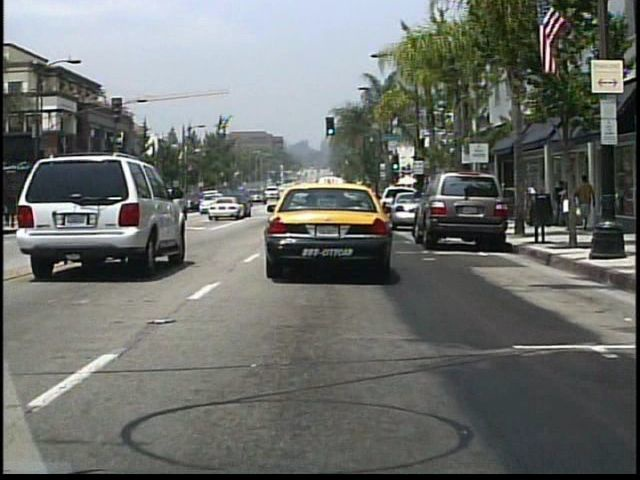person: (576, 172, 595, 233), (563, 178, 581, 233), (553, 177, 569, 228)
